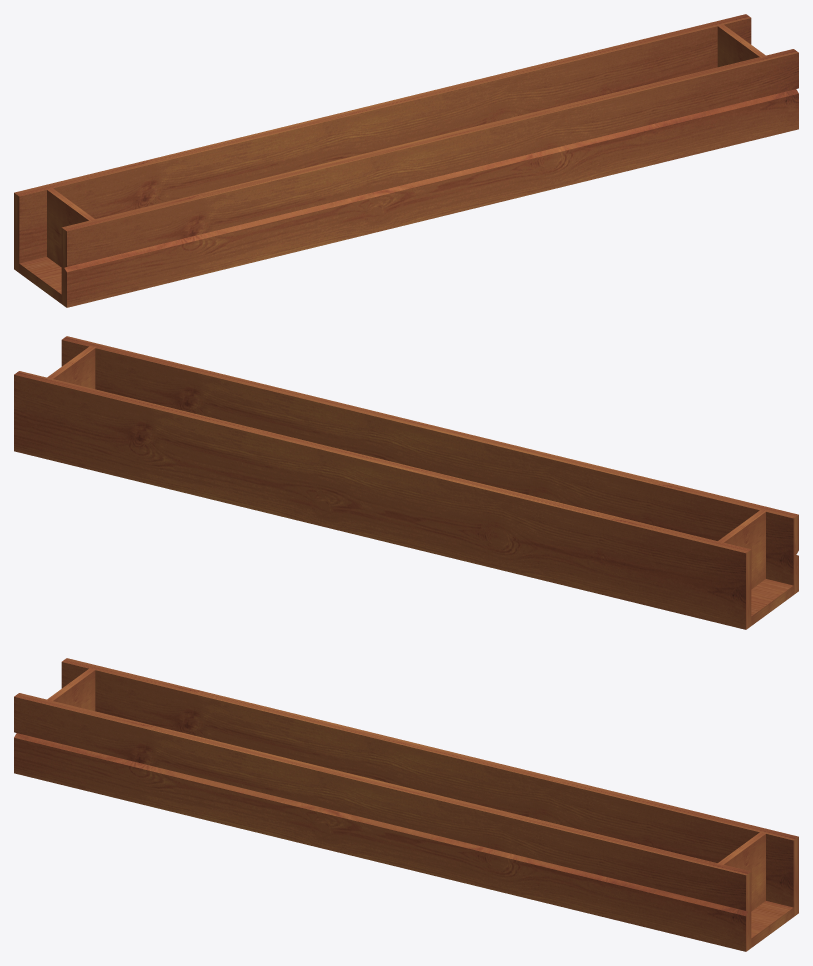
3 renders of one model, top to bottom at view 1: azimuth 30°, elevation 25°; view 2: azimuth 150°, elevation 25°; view 3: azimuth 330°, elevation 25°, orthographic.
Visible parts, largest first — view 1: front, back, left, bottom, right; view 2: back, front, left, bottom, right; view 3: front, back, right, bottom, left.
Boxes of the visible parts, x1=… form: front: x1=61, y1=49, x2=798, y2=307; back: x1=14, y1=14, x2=751, y2=272; left: x1=47, y1=188, x2=96, y2=267; bottom: x1=19, y1=257, x2=61, y2=303; right: x1=717, y1=24, x2=766, y2=67; back: x1=14, y1=371, x2=751, y2=629; front: x1=61, y1=336, x2=798, y2=594; left: x1=718, y1=509, x2=766, y2=589; bottom: x1=751, y1=579, x2=793, y2=625; right: x1=47, y1=345, x2=96, y2=389; front: x1=14, y1=693, x2=751, y2=951; back: x1=61, y1=658, x2=798, y2=916; right: x1=716, y1=832, x2=765, y2=911; bottom: x1=751, y1=901, x2=793, y2=947; left: x1=46, y1=668, x2=95, y2=711.
Size of the model in its own units: 60 by 6 by 7.5.
Materials: 3 (3 with a texture image).
